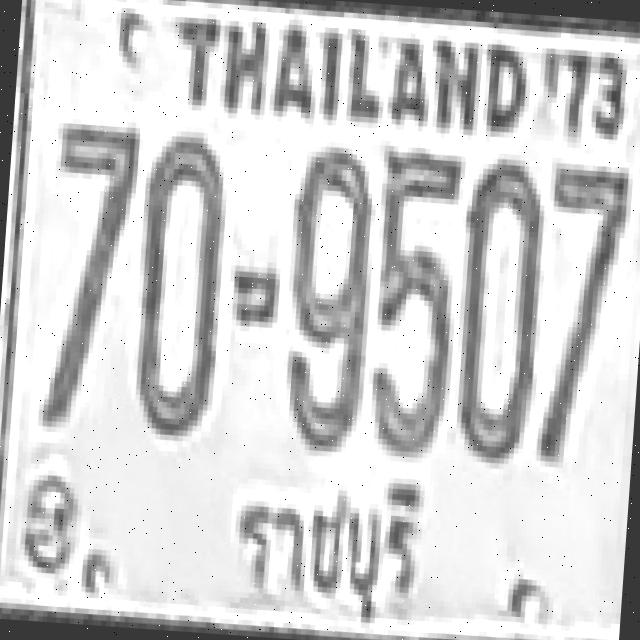0: (454, 154, 546, 376), (286, 142, 376, 331)
7: (46, 117, 142, 339), (539, 157, 629, 346)
9: (277, 144, 375, 448), (278, 205, 370, 448)
Ratchaburi: (205, 461, 442, 634)
